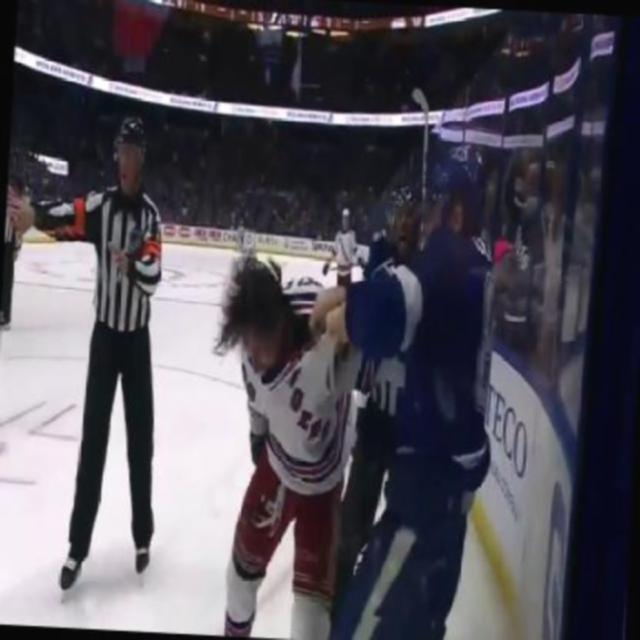fight: (186, 127, 506, 638)
non-fight: (15, 106, 176, 599)
